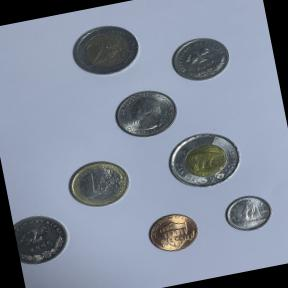1 Euro: (60, 152, 136, 216)
2 Euro: (63, 16, 147, 87)
Canda-10cent-: (218, 189, 278, 239)
Canda-2Dollar-: (159, 124, 250, 198)
Croatia-2Kune-: (12, 204, 76, 272)
US-1cent-: (142, 206, 204, 260)
US-25cent-: (107, 82, 184, 146)
